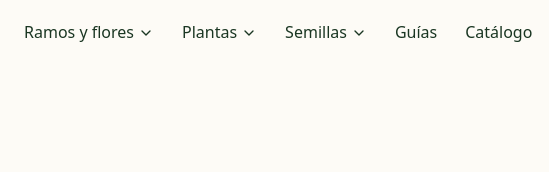
MainNav: mega menu con hover › cambiar de un menu a otro es inmediato y no deja el anterior abierto
Hover over the button "Plantas" at (220, 33), box [170,12,269,54]
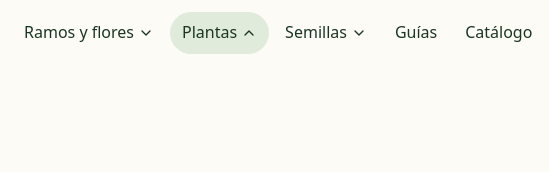
Hover over the button "Semillas" at (326, 33), box [273,12,379,54]
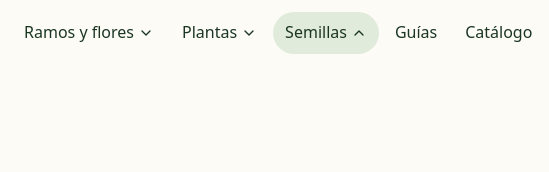
expect the button "Semillas" is expanded: met, box [273,12,379,54]
